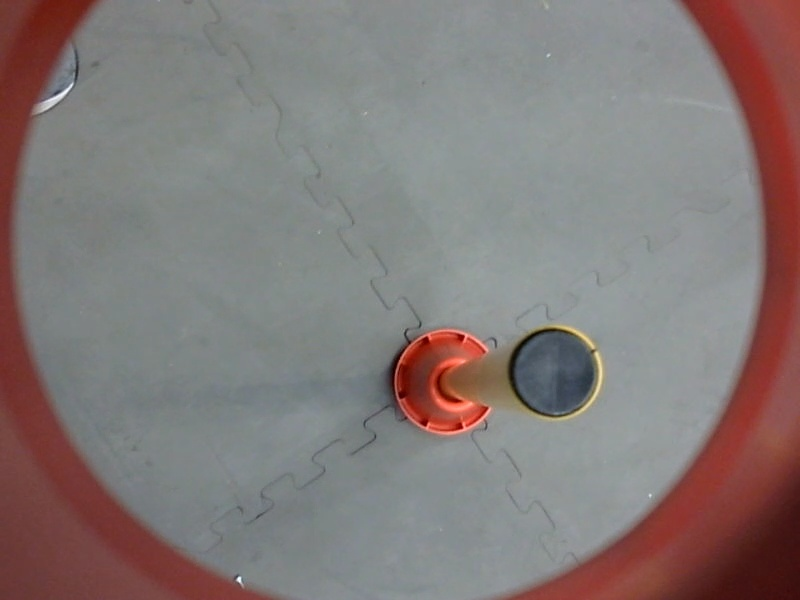tip: (502, 317, 612, 427)
